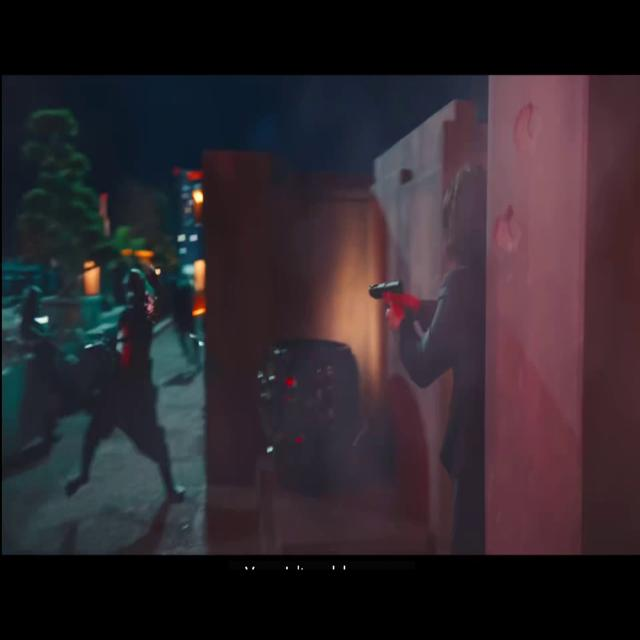weapons: (364, 258, 406, 330)
